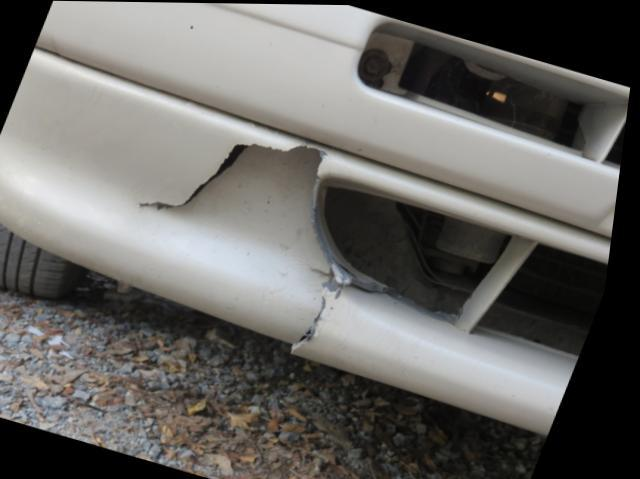crack: (139, 140, 329, 212), (302, 268, 346, 347)
